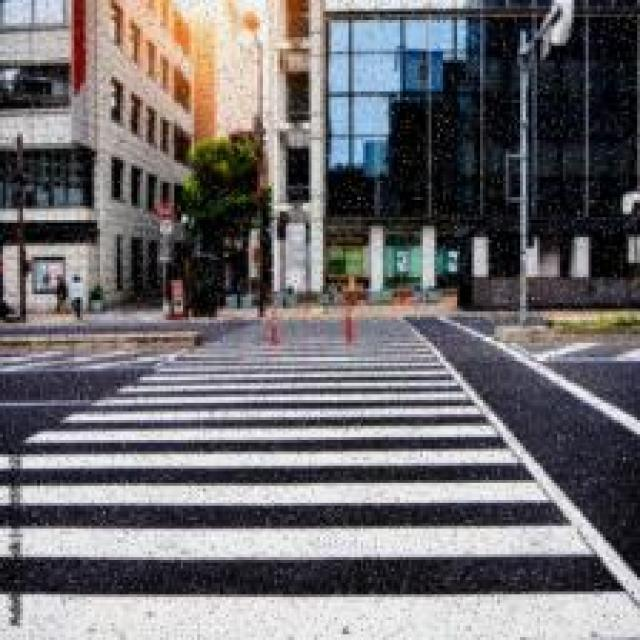crosswalk: (1, 310, 638, 638)
